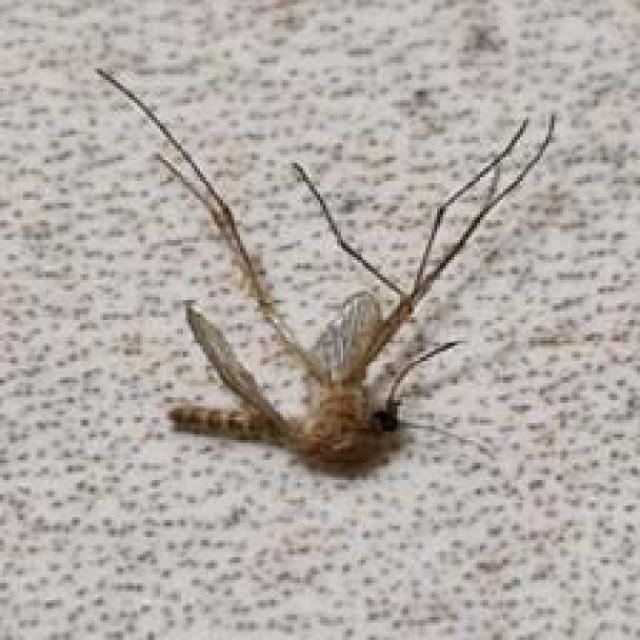Culex: (93, 64, 558, 476)
